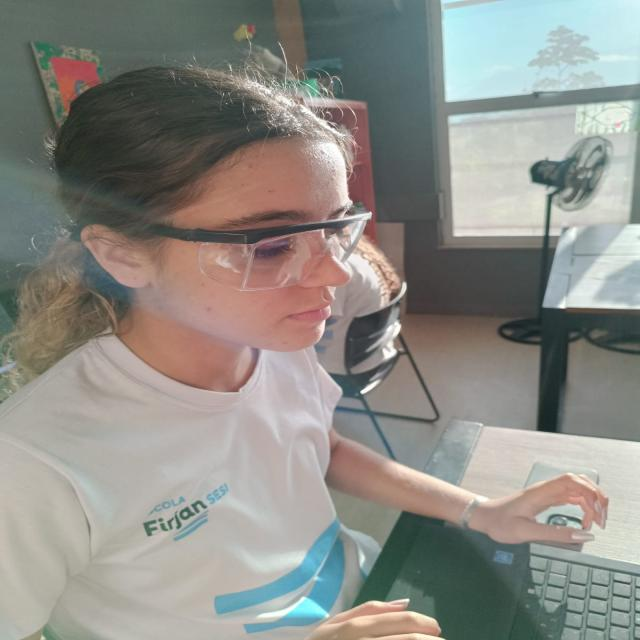oculos-epi: (154, 209, 373, 294)
